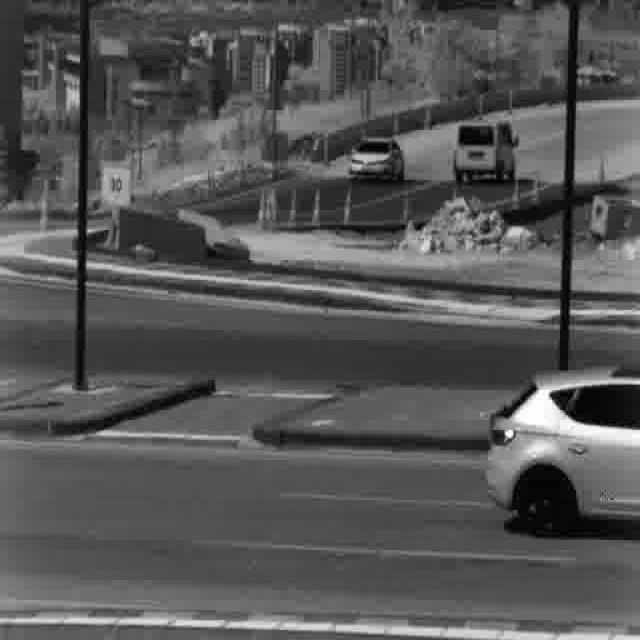Car: (482, 367, 640, 528), (452, 120, 514, 188), (350, 136, 405, 180)
